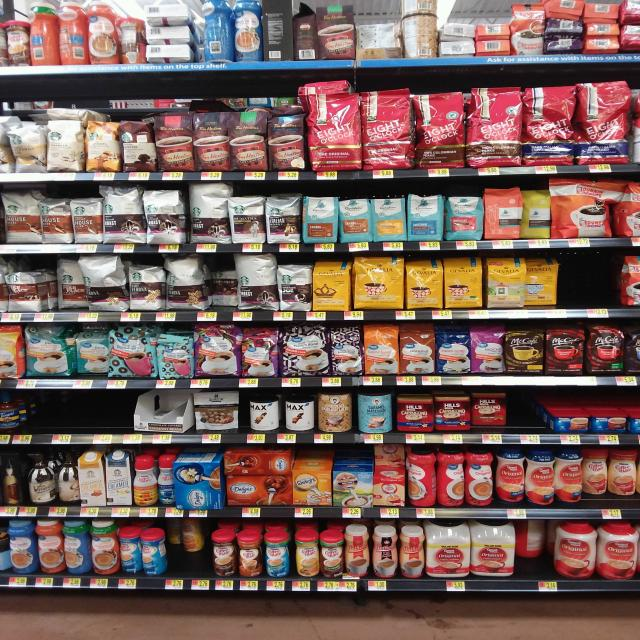void: (96, 390, 132, 456), (592, 250, 620, 320), (562, 252, 588, 324), (513, 390, 548, 443), (68, 384, 95, 445), (529, 523, 551, 594), (34, 392, 62, 447)
